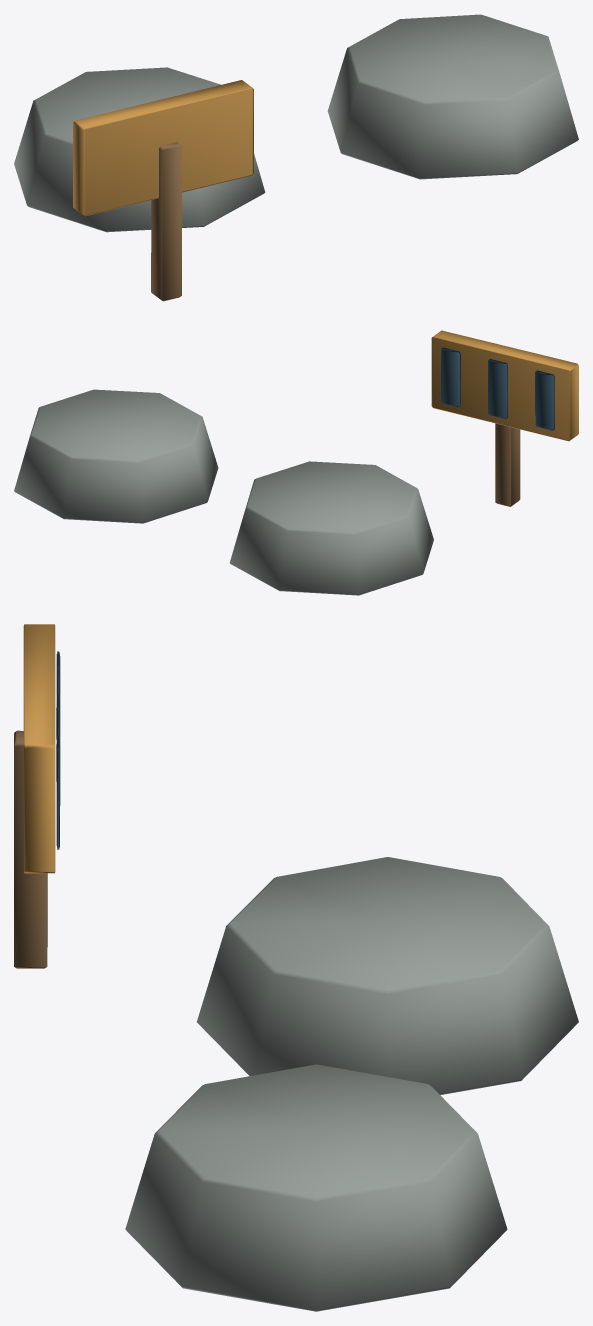
Rendered from stepstones_stage1_low.glb.
3 views of the same model, one above another, from view 1: azimuth 30°, elevation 25°; view 2: azimuth 150°, elevation 25°; view 3: azimuth 270°, elevation 25° (orthographic). The views are drawn at different scales.
Bounding box in the file's own units: 2.21 × 0.69 × 1.27.
